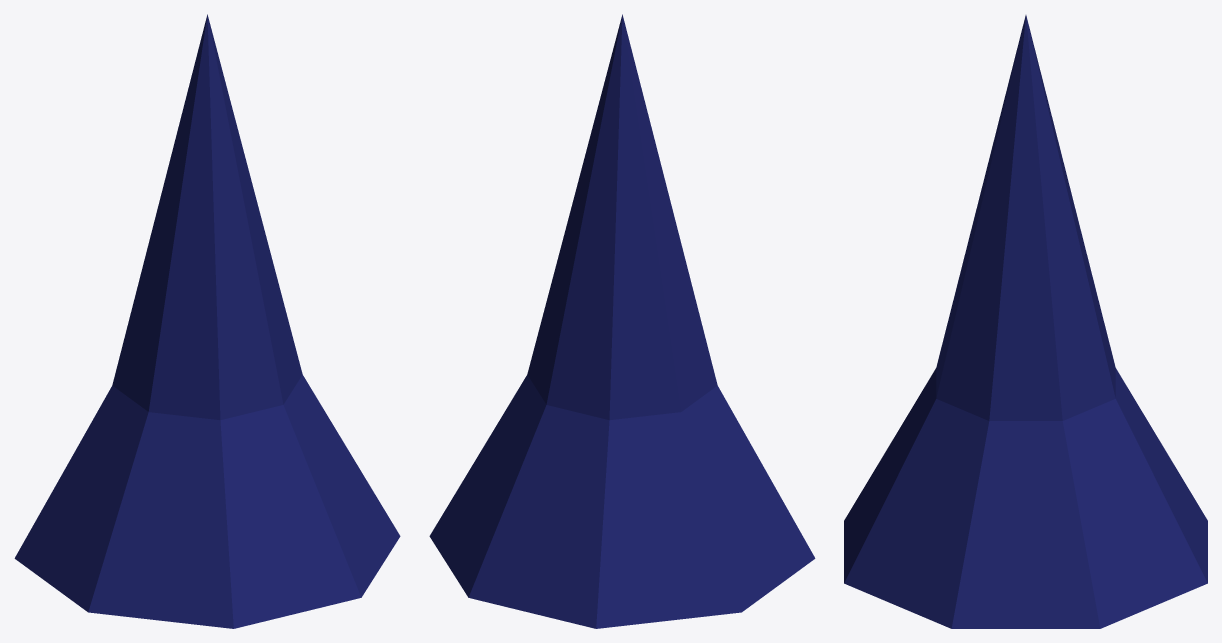
3 renders of one model, left to right at view 1: azimuth 30°, elevation 25°; view 2: azimuth 150°, elevation 25°; view 3: azimuth 270°, elevation 25°, orthographic.
Parts seen in each view (by area): view 1: cone1; view 2: cone1; view 3: cone1.
Boxes of the visible parts, box(x1,y1,x2,y2) form: cone1: box(14, 14, 400, 628); cone1: box(429, 14, 815, 628); cone1: box(844, 15, 1207, 628).
Size of the model in its own units: 473 by 771 by 473.
